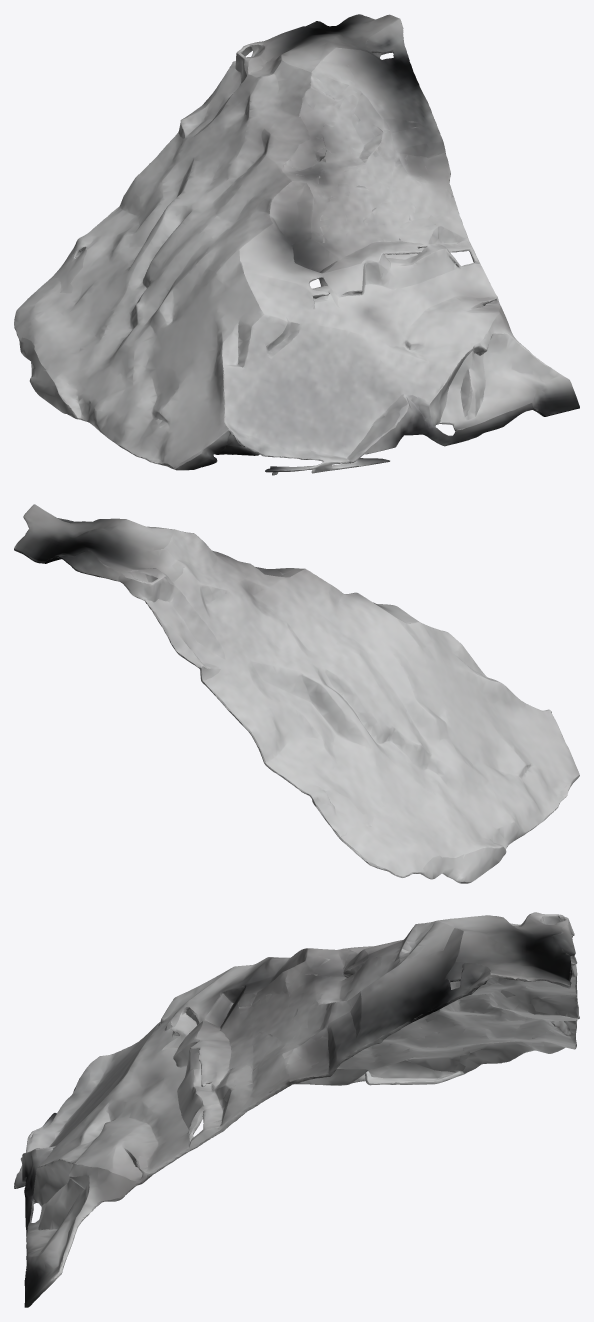
3 views of the same model, one above another, from view 1: azimuth 30°, elevation 25°; view 2: azimuth 150°, elevation 25°; view 3: azimuth 270°, elevation 25° (orthographic). The views are drawn at different scales.
Parts seen in each view (by area): view 1: world; view 2: world; view 3: world.
Boxes of the visible parts, x1,y1,x2,y2 form: world: (14, 14, 579, 475); world: (14, 504, 579, 883); world: (14, 912, 579, 1307).
Bounding box in the file's own units: 0.12 × 0.0806 × 0.1187.
Materials: 1 (1 with a texture image).
